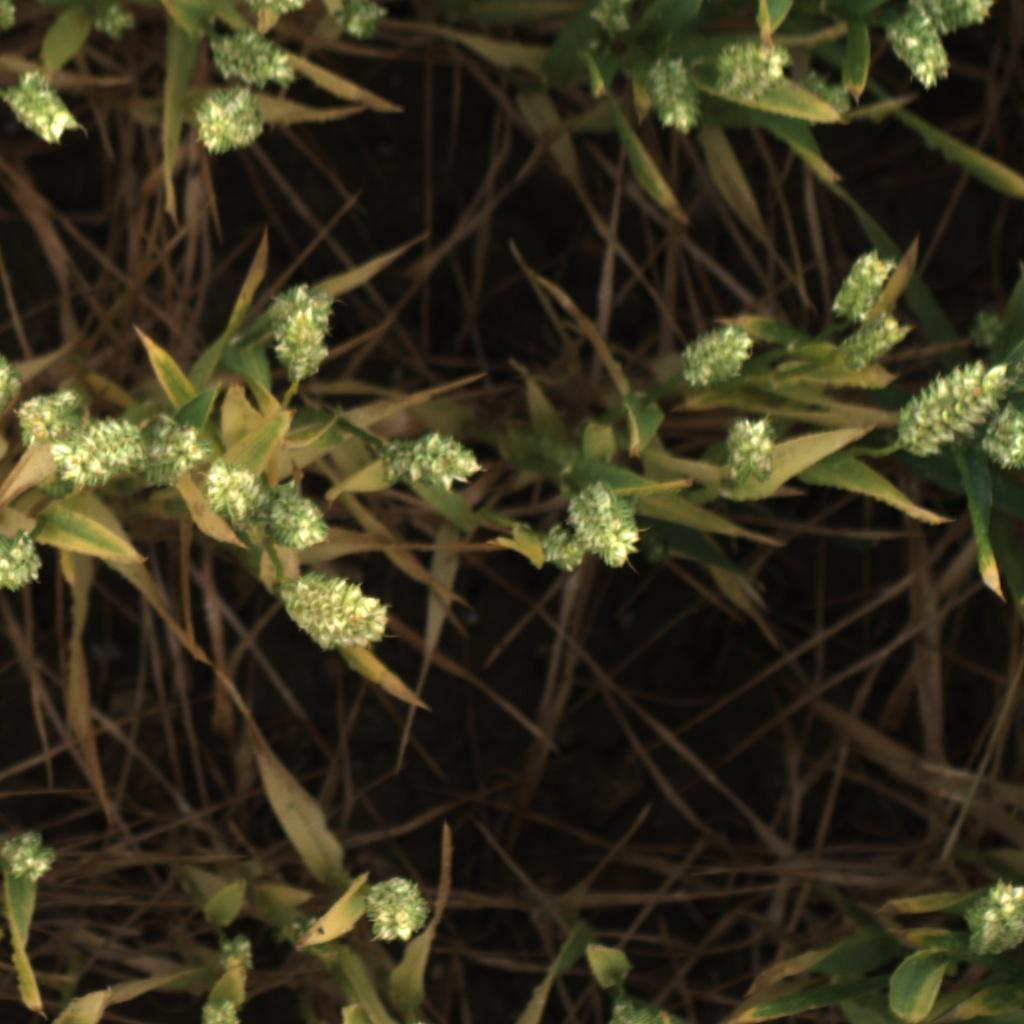0-0: (894, 356, 1014, 463), (281, 570, 396, 658), (43, 407, 154, 497), (263, 278, 341, 390), (377, 424, 493, 497), (568, 477, 653, 573), (0, 61, 87, 149), (206, 29, 310, 97), (143, 405, 222, 492), (353, 872, 443, 947), (883, 5, 952, 100), (181, 85, 265, 162), (711, 39, 801, 105), (722, 410, 791, 492), (198, 454, 269, 533), (678, 320, 752, 394), (644, 54, 706, 142), (959, 876, 1024, 959), (267, 481, 341, 552), (833, 244, 902, 320), (13, 387, 92, 449), (837, 311, 917, 371), (0, 824, 67, 889), (0, 527, 53, 604), (530, 521, 594, 583), (791, 67, 856, 124), (595, 991, 696, 1024), (908, 0, 1000, 35), (987, 400, 1024, 482), (585, 0, 648, 48), (333, 0, 389, 48), (964, 305, 1010, 356), (0, 349, 29, 424), (279, 914, 332, 954), (216, 929, 258, 977), (91, 2, 139, 43), (234, 0, 327, 20), (193, 990, 247, 1024), (0, 0, 20, 36)
